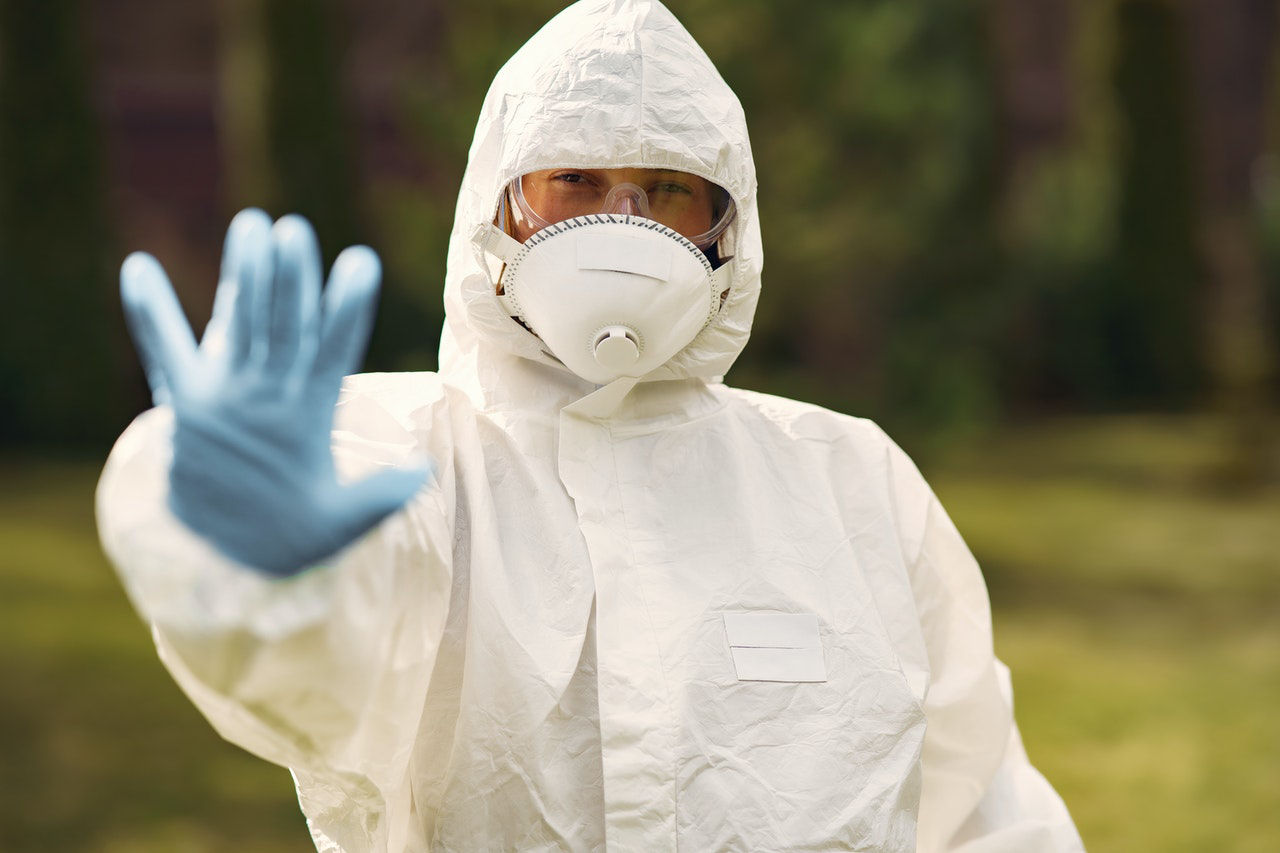Coverall: (102, 1, 1082, 851)
Gloves: (117, 209, 433, 582)
Goggles: (510, 159, 740, 247)
with_mask: (503, 176, 716, 384)
